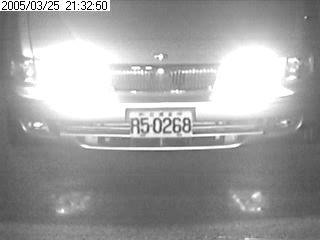plate: (128, 109, 193, 139)
